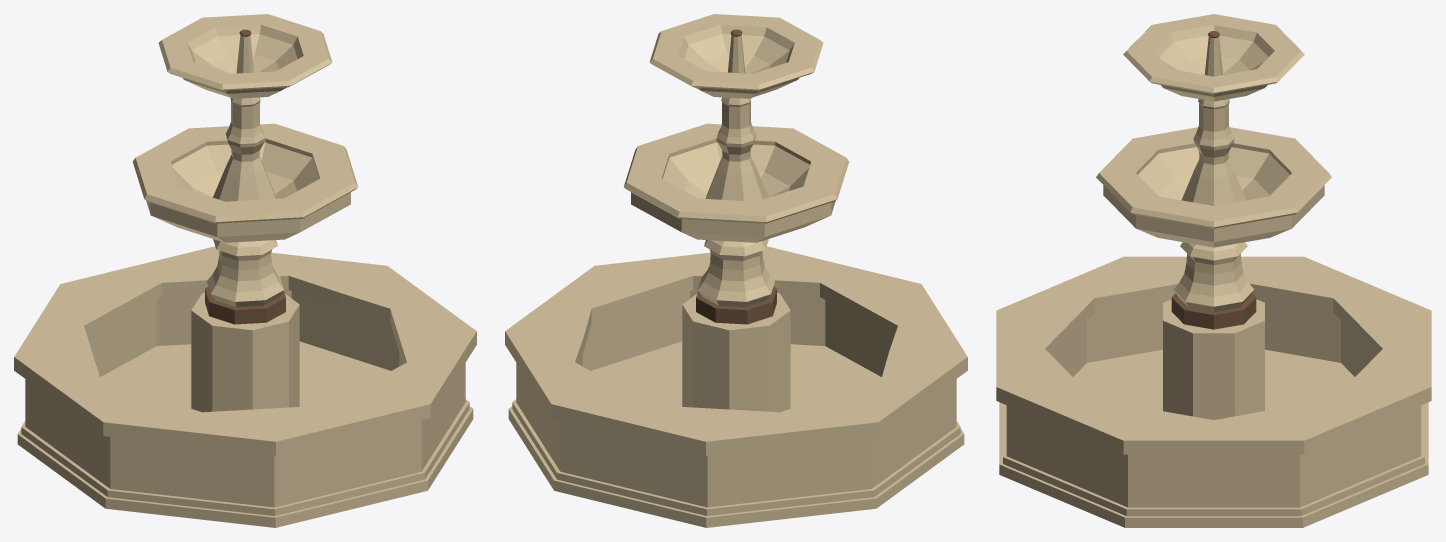
The model's file is parisiennewaterfountain.fbx.
The picture shows the model from 3 angles, left to right: view 1: azimuth 30°, elevation 25°; view 2: azimuth 150°, elevation 25°; view 3: azimuth 270°, elevation 25°; orthographic projection.
Visible parts, largest first — view 1: Cylinder, Cylinder.004, Cylinder.005, Cylinder.002, Cylinder.001, Cylinder.003; view 2: Cylinder, Cylinder.004, Cylinder.005, Cylinder.002, Cylinder.001, Cylinder.003; view 3: Cylinder, Cylinder.004, Cylinder.005, Cylinder.002, Cylinder.001, Cylinder.003.
Part boxes in pixels (box(x1,y1,x2,y2)): Cylinder: box(14, 246, 476, 527); Cylinder.004: box(132, 97, 357, 256); Cylinder.005: box(158, 14, 332, 98); Cylinder.002: box(191, 292, 299, 412); Cylinder.001: box(207, 249, 283, 307); Cylinder.003: box(205, 286, 285, 324); Cylinder: box(505, 246, 967, 527); Cylinder.004: box(624, 97, 849, 256); Cylinder.005: box(649, 14, 823, 98); Cylinder.002: box(682, 292, 790, 412); Cylinder.001: box(698, 249, 774, 307); Cylinder.003: box(696, 286, 776, 324); Cylinder: box(996, 256, 1431, 527); Cylinder.004: box(1096, 99, 1331, 260); Cylinder.005: box(1123, 14, 1304, 101); Cylinder.002: box(1163, 299, 1264, 419); Cylinder.001: box(1173, 254, 1254, 311); Cylinder.003: box(1171, 293, 1256, 329).
Bounding box in the file's own units: 567 × 581 × 567.
